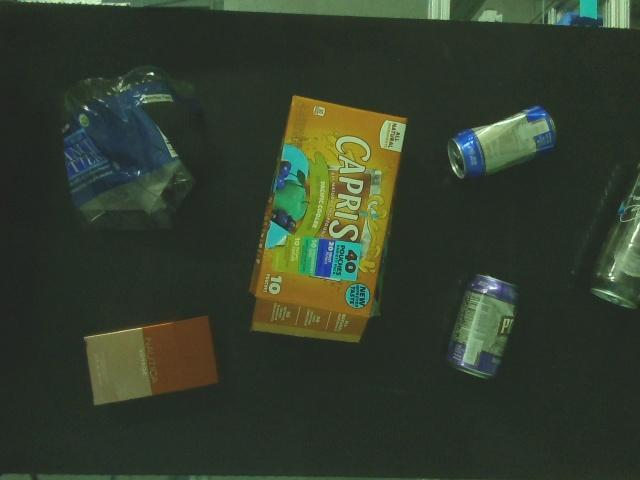cardboard: (248, 92, 408, 345), (83, 315, 222, 406)
metal: (447, 103, 562, 184), (442, 270, 524, 380), (591, 164, 640, 320)
plastic: (62, 63, 212, 236)
